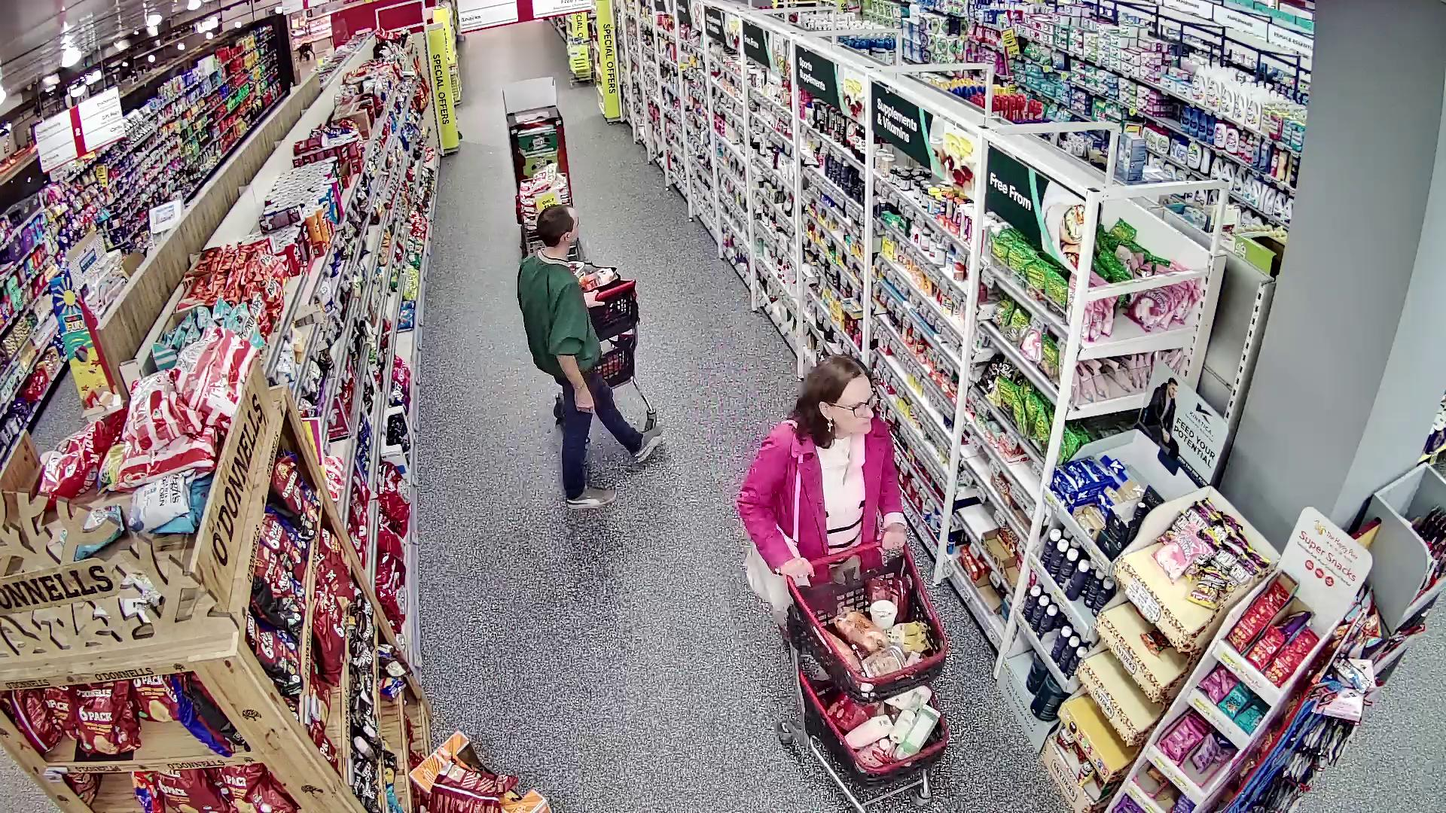backpack-or-handbag: (744, 523, 808, 614)
filled-trolly: (787, 531, 950, 813), (538, 258, 657, 436)
person: (518, 203, 666, 506), (736, 354, 908, 580)
person-with-basket-trolly-and-backpack-handbag: (736, 353, 951, 813)
person-with-filled-basket-trolly: (519, 203, 664, 505)
